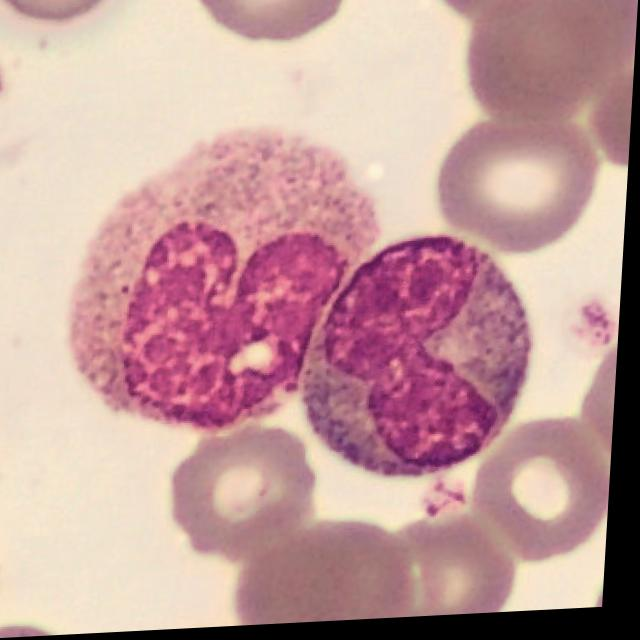Bastonete: (76, 135, 383, 433), (307, 242, 533, 478)
